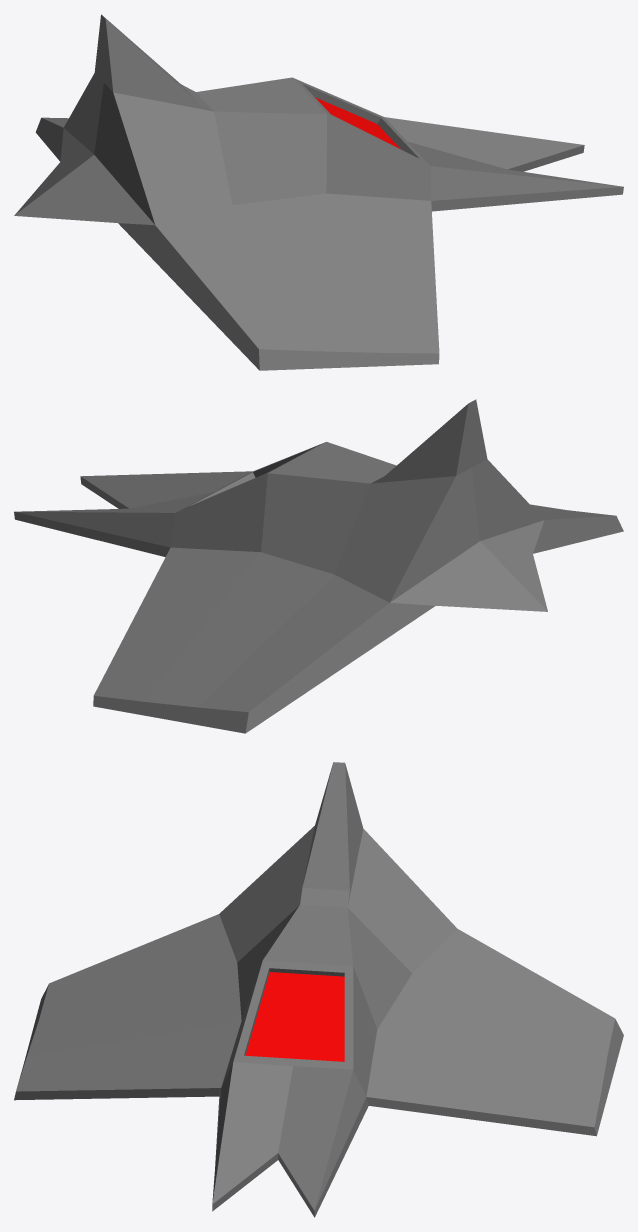
Rendered from enemy_ship.glb.
3 renders of one model, top to bottom at view 1: azimuth 30°, elevation 25°; view 2: azimuth 150°, elevation 25°; view 3: azimuth 270°, elevation 25°, orthographic. The views are drawn at different scales.
Parts seen in each view (by area): view 1: Plane; view 2: Plane; view 3: Plane.
Boxes of the visible parts, bbox=[...] form: Plane: bbox=[14, 14, 623, 370]; Plane: bbox=[14, 399, 623, 733]; Plane: bbox=[14, 762, 623, 1217].
Size of the model in its own units: 0.558 by 0.2574 by 0.5512.
